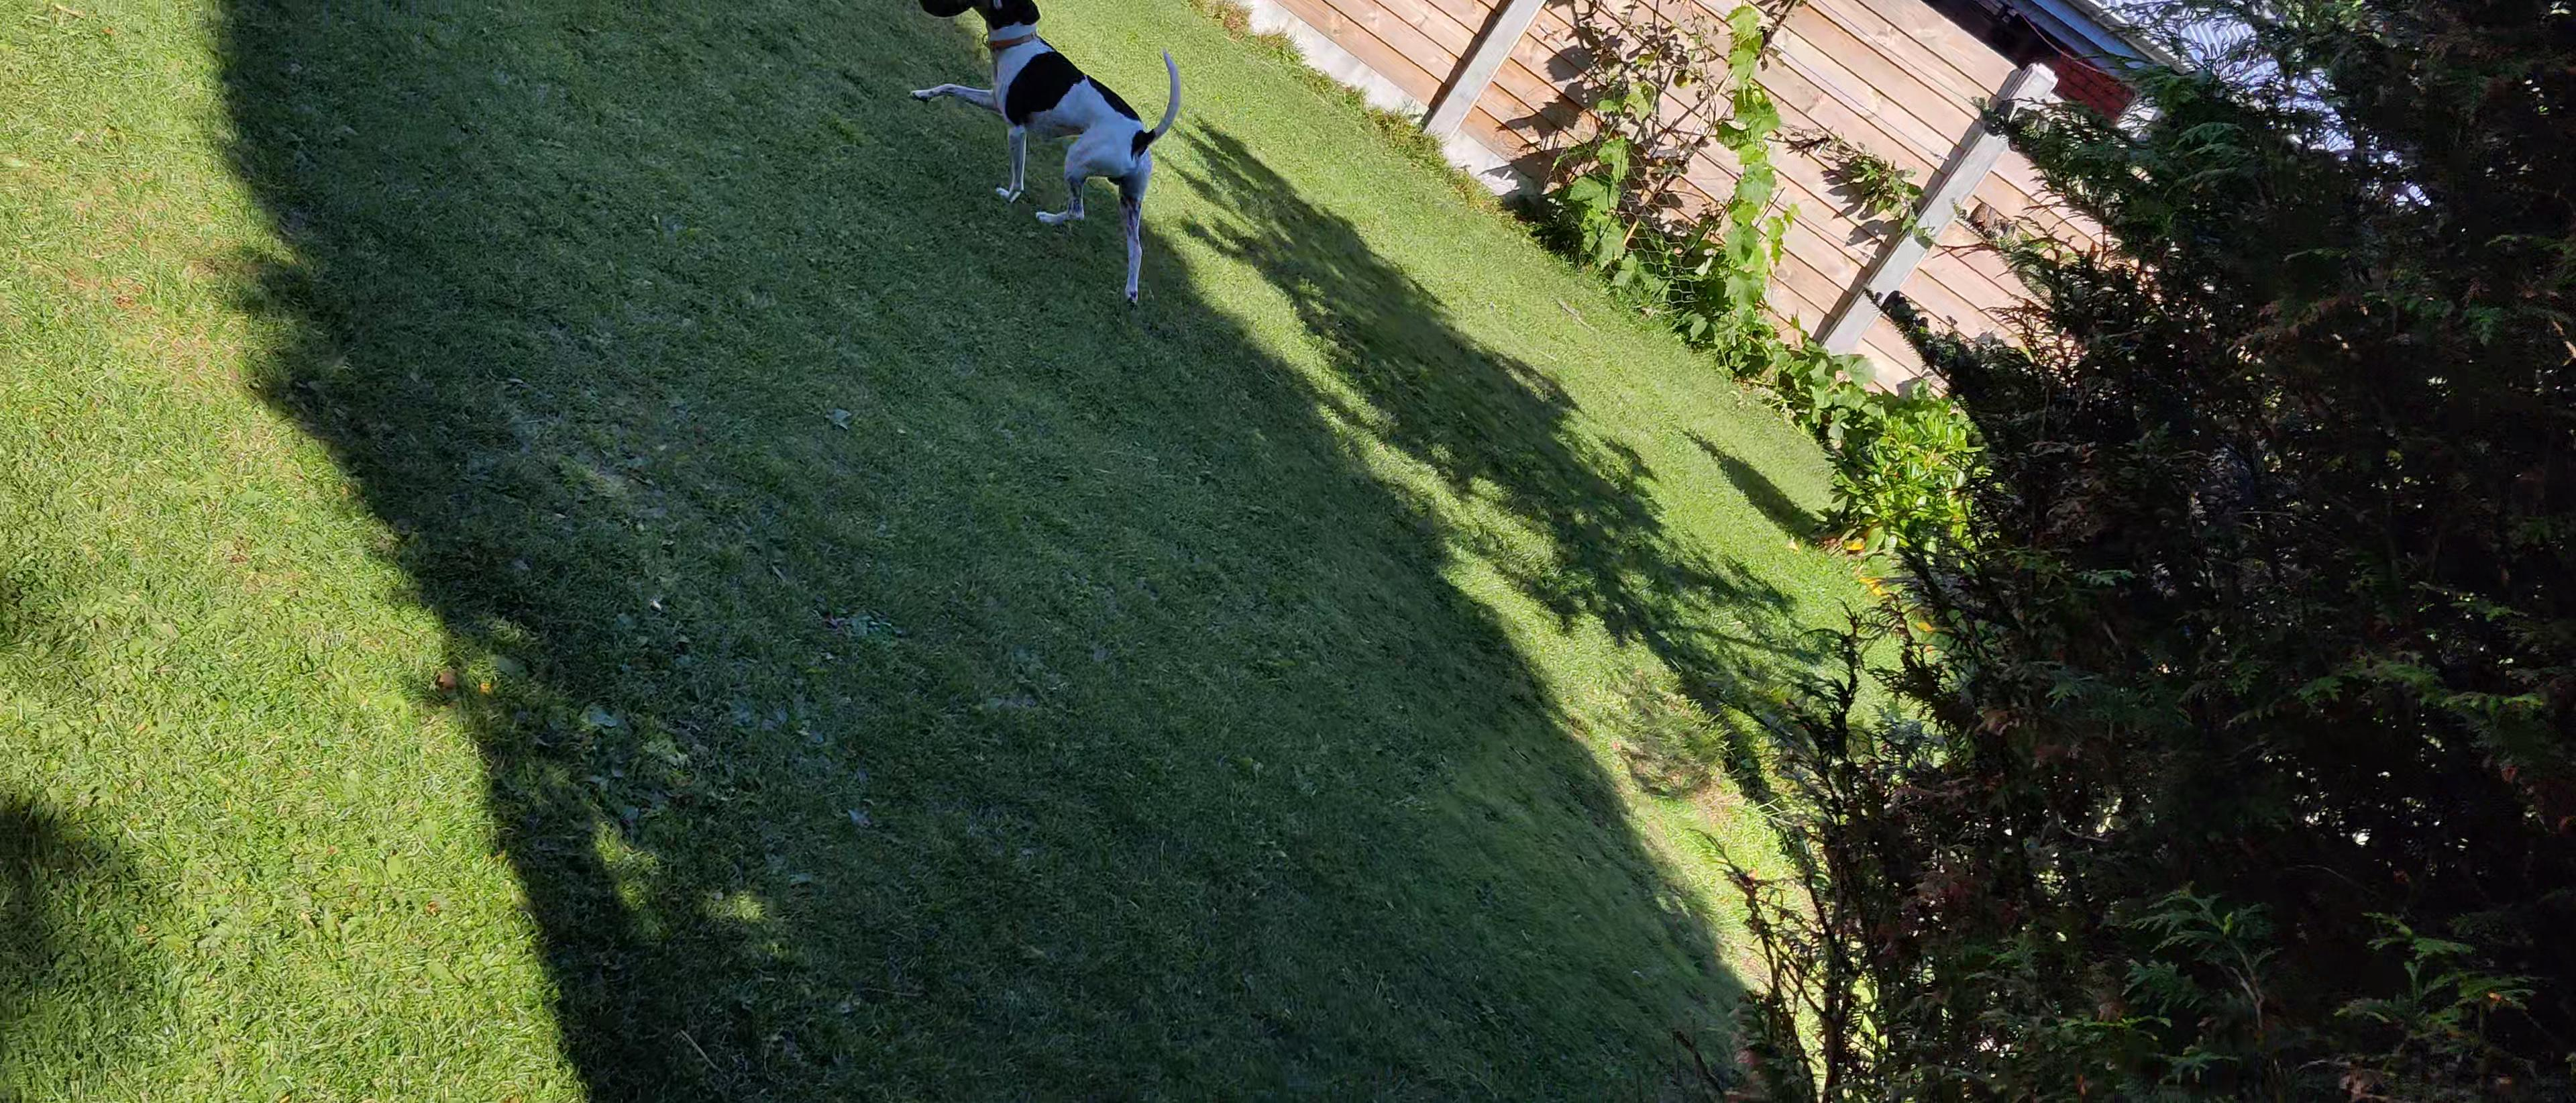Dog: (892, 0, 1194, 317)
